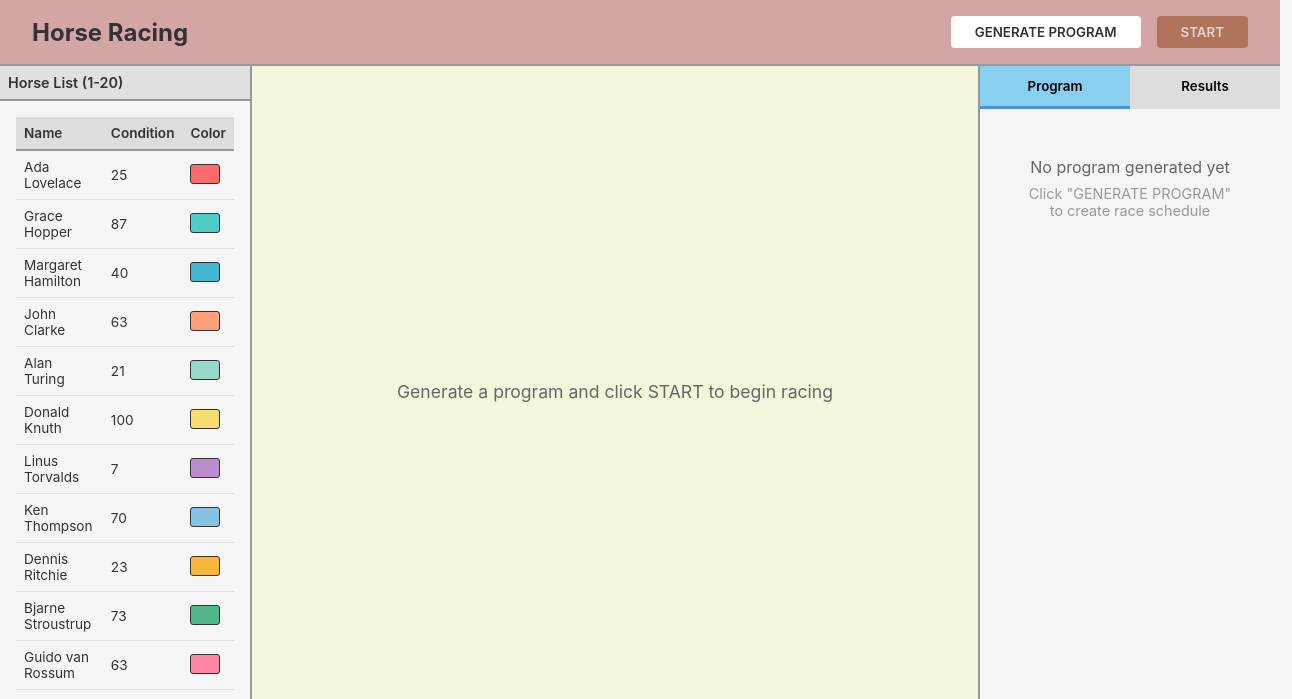
Test: Horse Racing Game - UI Validation › Program Panel › should highlight current round
Click the button "GENERATE PROGRAM": (1046, 32) [951,16,1141,48]
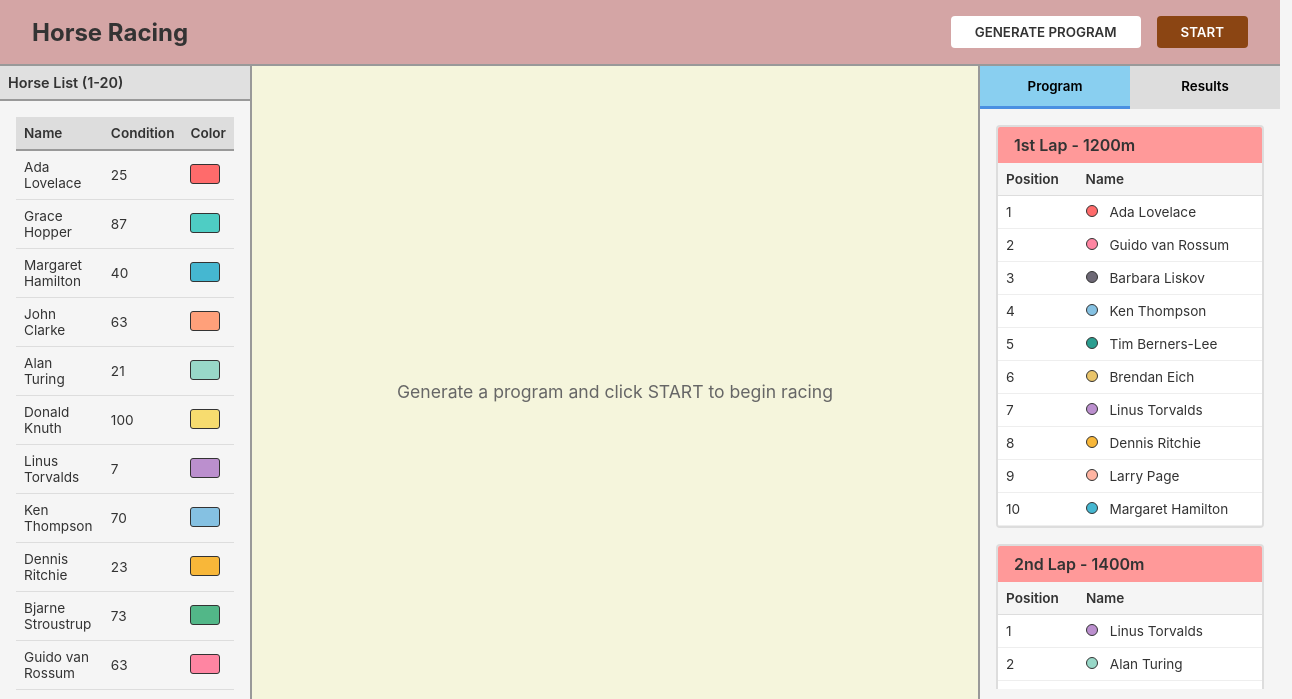
Click the button "START": (1203, 32) [1157,16,1248,48]
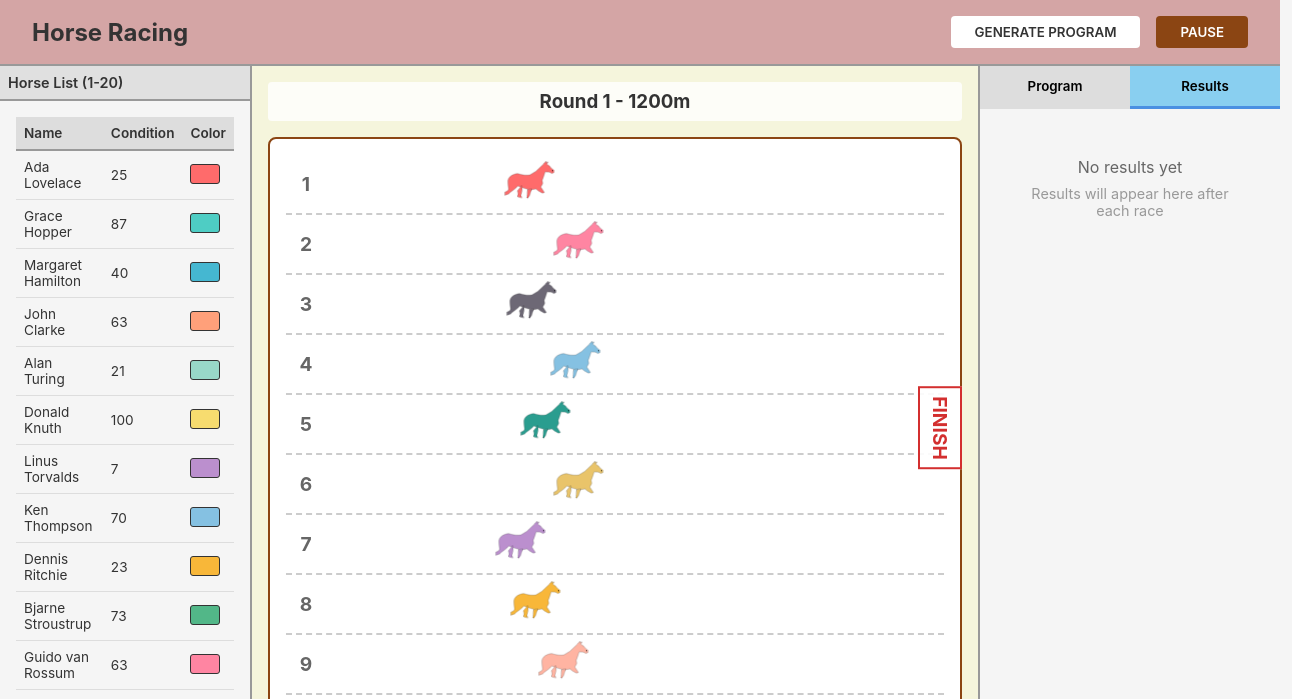
Click the button "Program": (1055, 88) [980,66,1130,109]
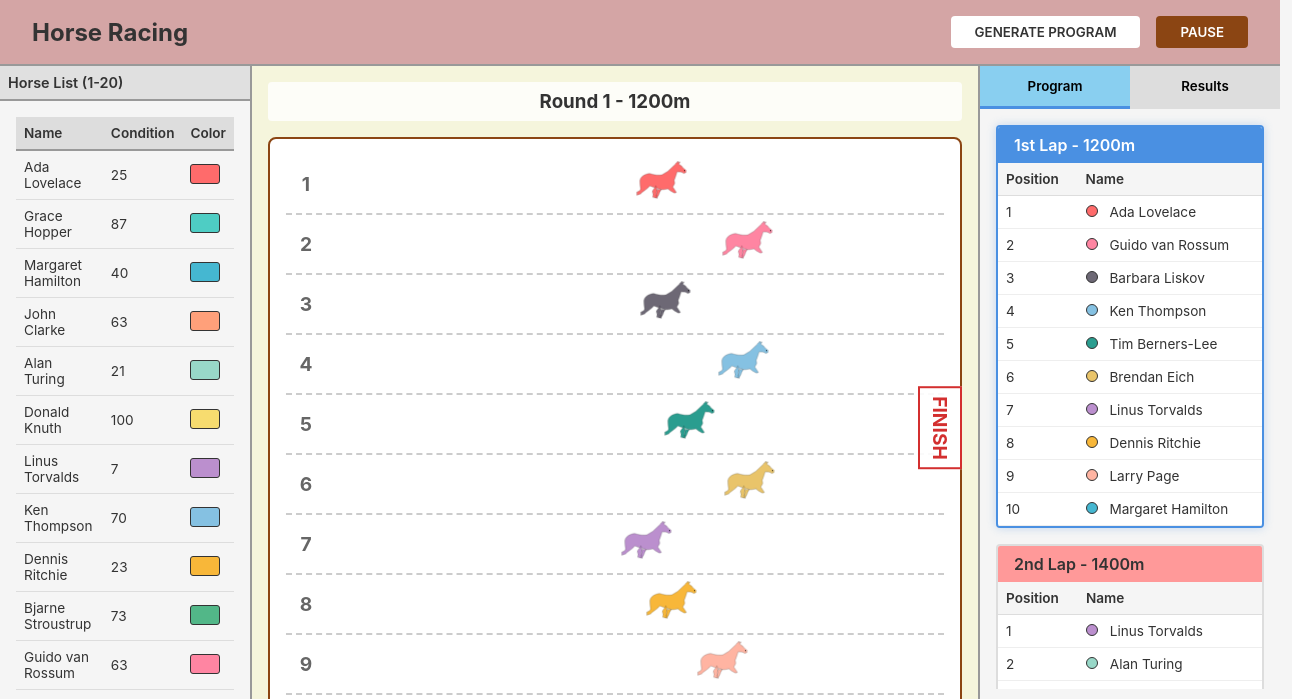
expect the element with class "round-card" that starts with "1st Lap - 1200m" is shown: met, box [996,125,1264,528]
